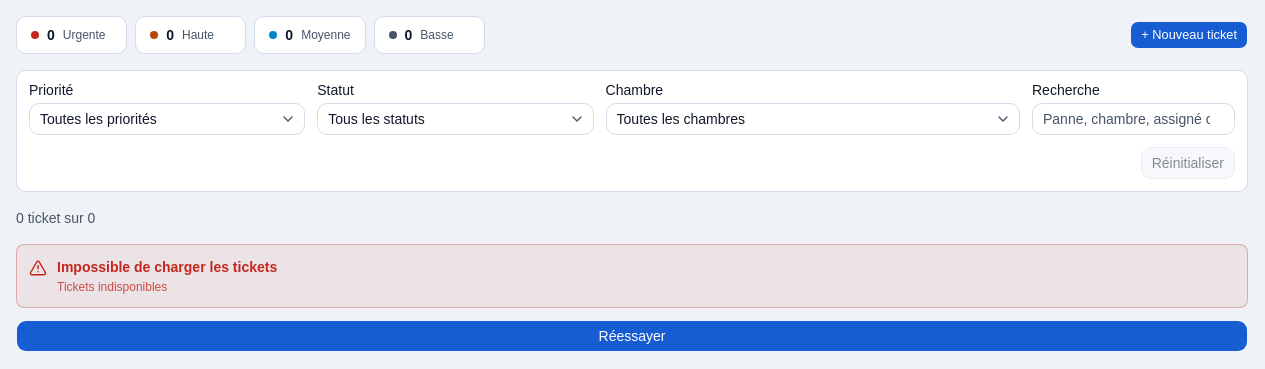
MaintenancePage — chargements indépendants › réessaie uniquement la liste après une erreur de tickets
Check: the text "Impossible de charger les tickets" is shown, box left=57, top=257, right=277, bottom=277
Click the button "Réessayer".
click(632, 336)  # box left=16, top=320, right=1248, bottom=352
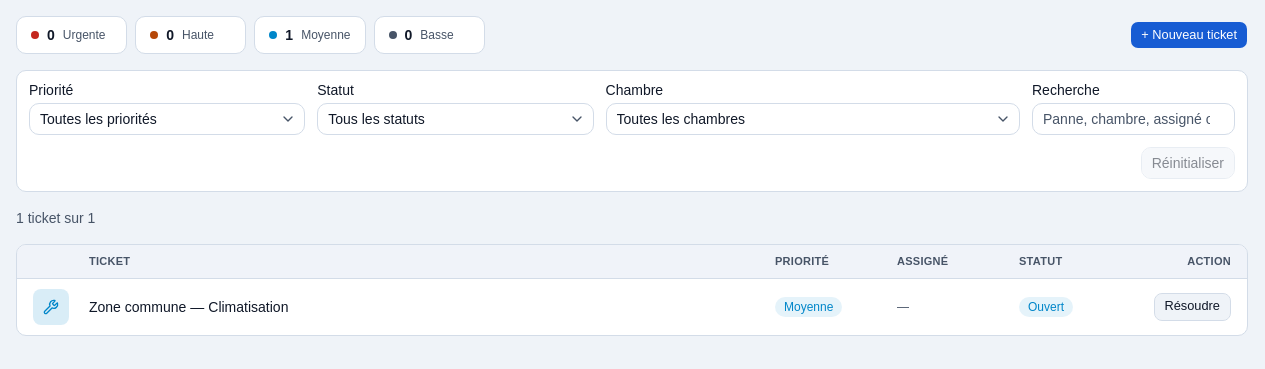
Check: the button with aria-label "Voir le détail du ticket 1" is shown, box left=208, top=296, right=288, bottom=316
